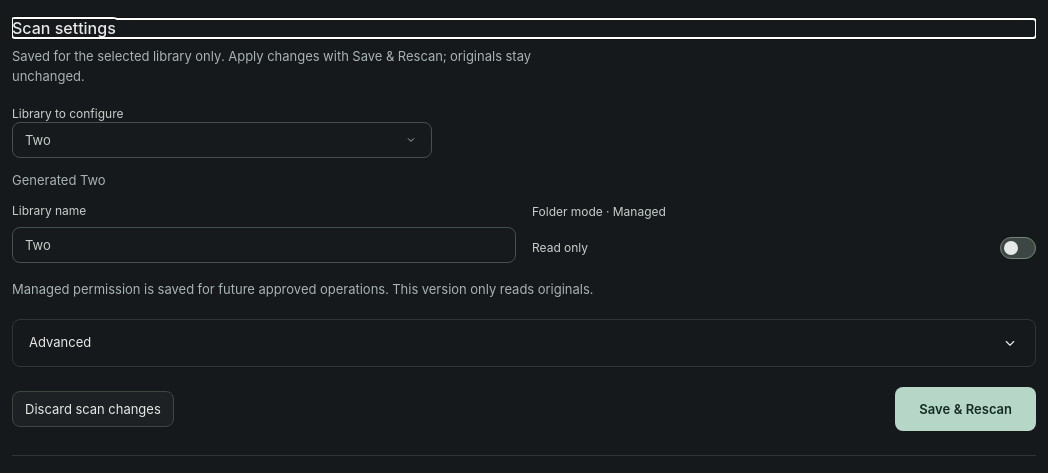
Scenario: switches libraries without carrying unsaved scan edits into another root
Step 1. Click the switch labelled "Read only" → (1018, 248), box [1000,237,1036,259]
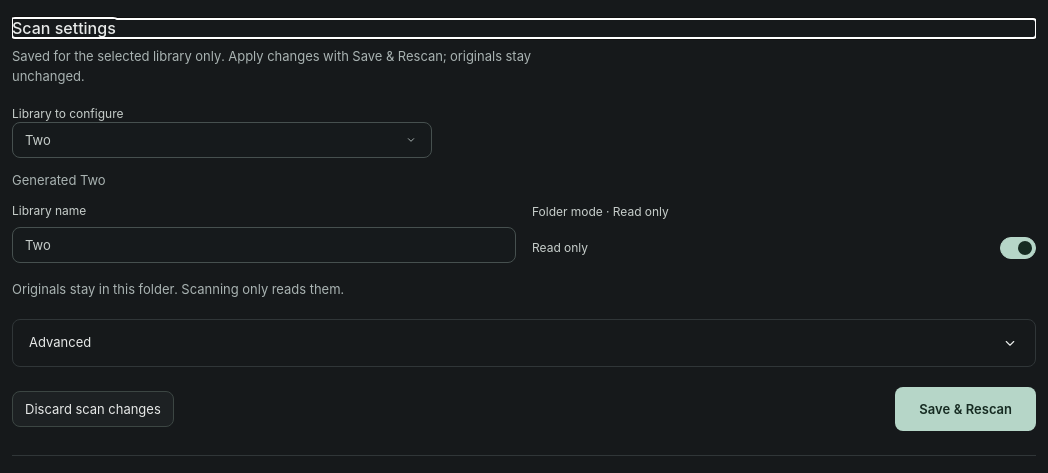
Step 2. Select "One" in the dropdown labelled "Library to configure" → (222, 140), box [12,122,432,158]
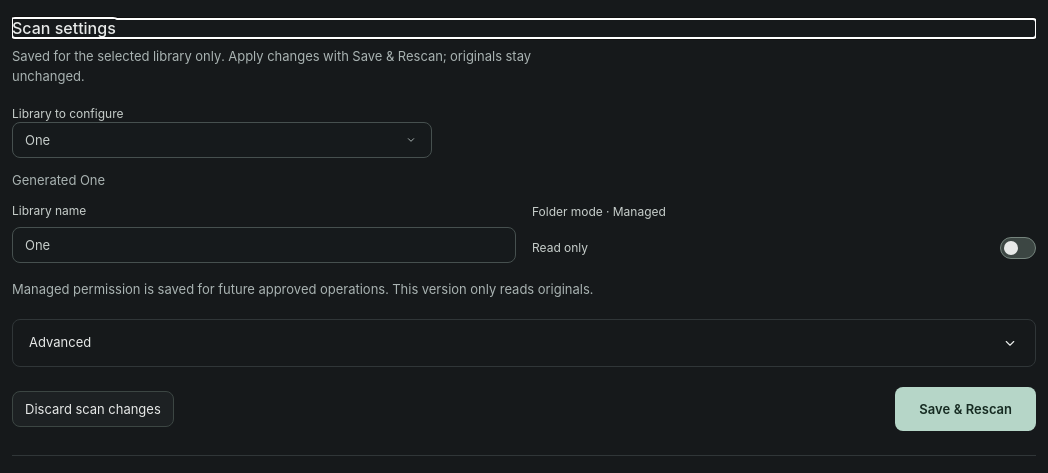
Expected: the field labelled "Library name" holds "One", [12,227,516,263]
Expected: the switch labelled "Read only" is not checked, [1000,237,1036,259]
